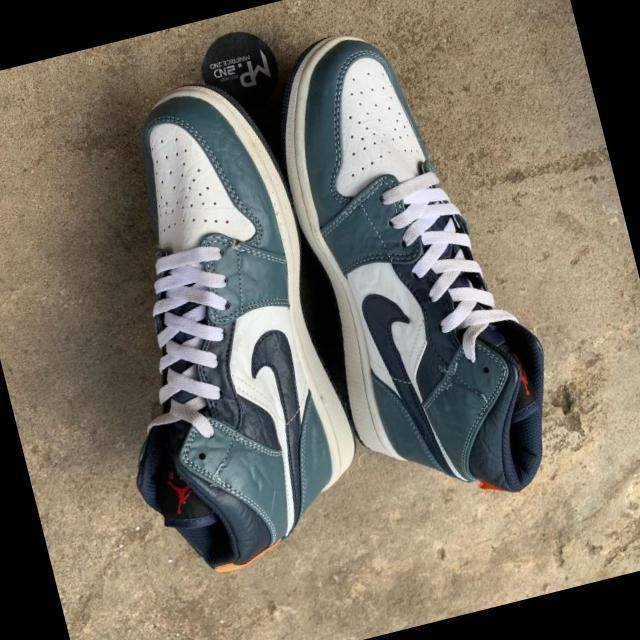nike fake jordan 1: (45, 64, 377, 592), (254, 4, 575, 528)
